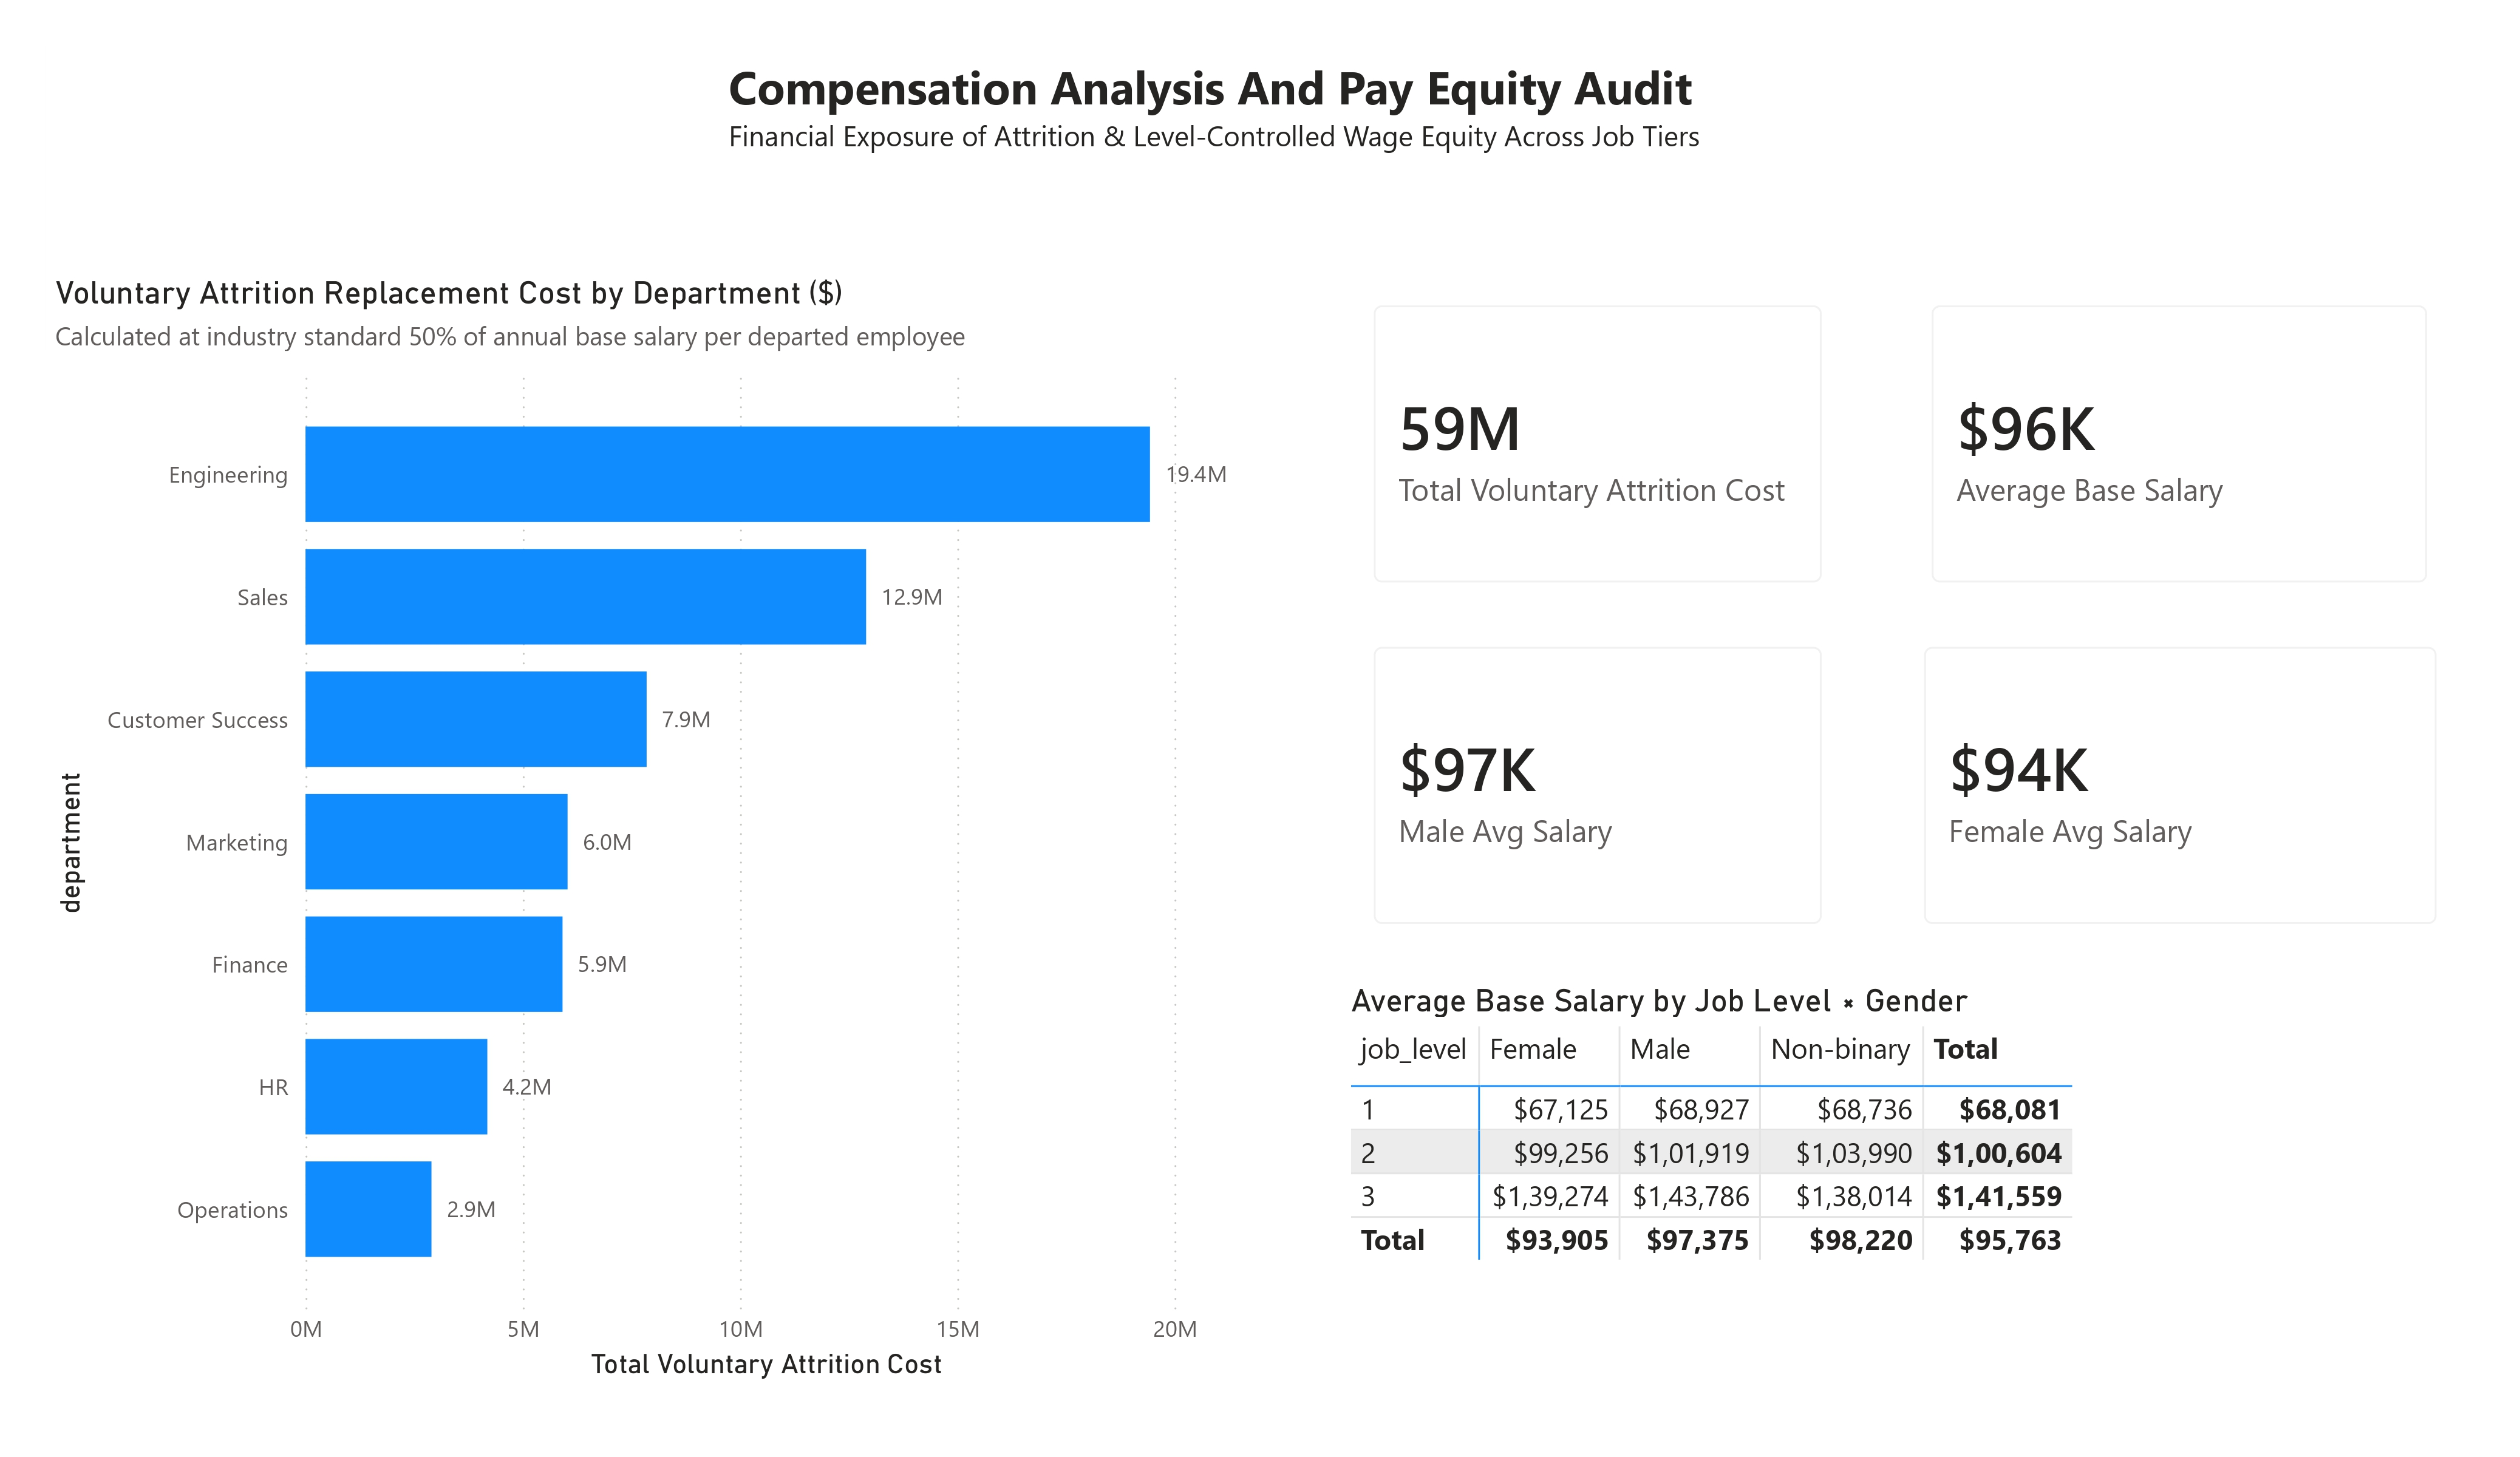

The dashboard page shown, as its layout file describes it:
{"tool":"powerbi","page":{"name":"Compensation & Pay Equity","canvas":[1280,720],"ordinal":1},"visuals":[{"type":"textbox","box":[355,0,925,75],"z":0},{"type":"cardVisual","fields":{"Data":["employees_clean.Total Voluntary Attrition Cost"]},"box":[683.3,120,270,180],"z":1000},{"type":"cardVisual","fields":{"Data":["employees_clean.Average Base Salary"]},"box":[976.7,120,295,180],"z":2000},{"type":"cardVisual","fields":{"Data":["employees_clean.Male Avg Salary"]},"box":[683.3,300,270,180],"z":3000},{"type":"cardVisual","fields":{"Data":["employees_clean.Female Avg Salary"]},"box":[973.3,300,303.3,180],"z":4000},{"type":"clusteredBarChart","title":"Voluntary Attrition Replacement Cost by Department ($)","fields":{"Category":["employees_clean.department"],"Y":["employees_clean.Total Voluntary Attrition Cost"]},"box":[0,120,640,588.3],"z":5000},{"type":"pivotTable","title":"Average Base Salary by Job Level × Gender","fields":{"Rows":["employees_clean.job_level"],"Columns":["employees_clean.gender"],"Values":["employees_clean.Average Base Salary"]},"box":[683.3,493.3,596.7,215],"z":6000}]}

Visuals, with their boxes on the page's 1280x720 design canvas (x1, y1, x2, y2). These are canvas units, not pixel positions in the 2520x1457 screenshot, which may show the page scaled, cropped or inside an application window:
textbox: detection(355, 0, 1280, 75)
cardVisual - employees_clean.Total Voluntary Attrition Cost: detection(683, 120, 953, 300)
cardVisual - employees_clean.Average Base Salary: detection(977, 120, 1272, 300)
cardVisual - employees_clean.Male Avg Salary: detection(683, 300, 953, 480)
cardVisual - employees_clean.Female Avg Salary: detection(973, 300, 1277, 480)
"Voluntary Attrition Replacement Cost by Department ($)" clusteredBarChart: detection(0, 120, 640, 708)
"Average Base Salary by Job Level × Gender" pivotTable: detection(683, 493, 1280, 708)
